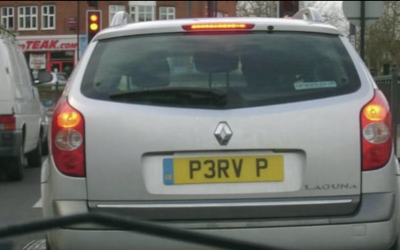Plate: (163, 153, 287, 187)
